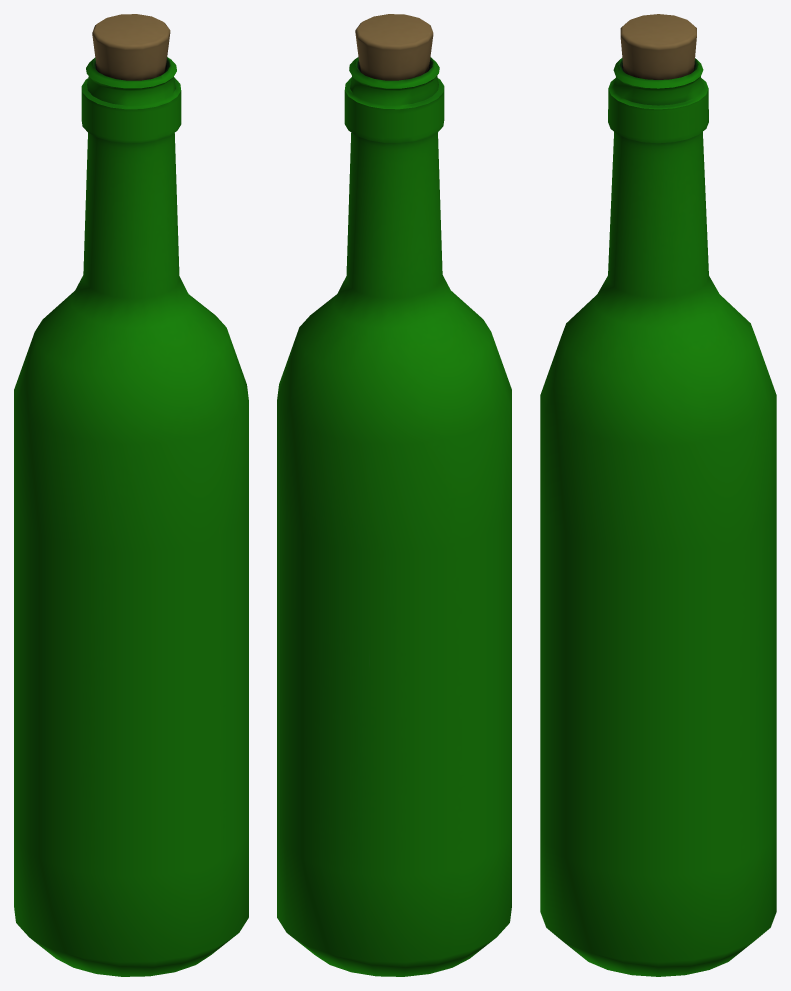
The model's file is Alchemy Bottle 6.fbx.
3 views of the same model, side by side, from view 1: azimuth 30°, elevation 25°; view 2: azimuth 150°, elevation 25°; view 3: azimuth 270°, elevation 25° (orthographic).
Visible parts, largest first — view 1: Alchemy_Bottle_6; view 2: Alchemy_Bottle_6; view 3: Alchemy_Bottle_6.
Boxes of the visible parts, x1,y1,x2,y2 form: Alchemy_Bottle_6: (14,14,248,976); Alchemy_Bottle_6: (277,14,511,976); Alchemy_Bottle_6: (540,14,776,976).
Size of the model in its own units: 6.11 by 26.03 by 6.11.
Materials: 1 (1 with a texture image).
